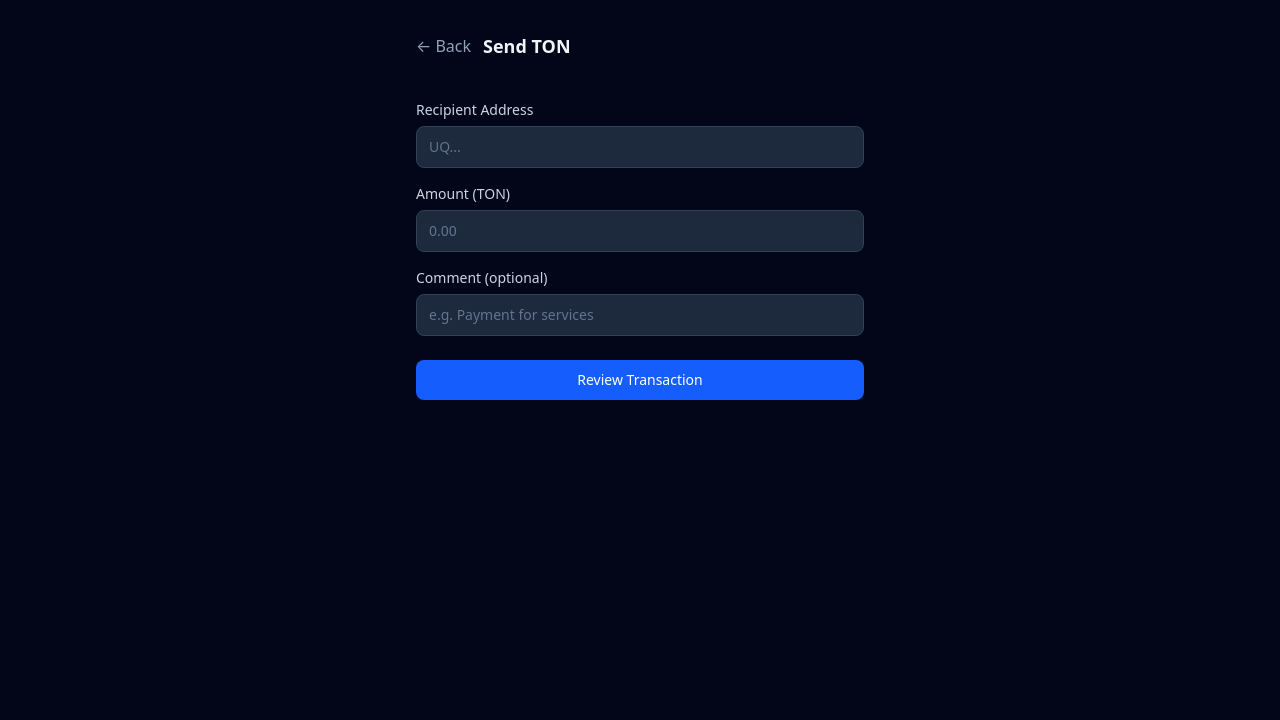
Scenario: SendPage › sends the transaction on confirm and shows the success screen
In the field with placeholder "UQ...": (640, 147) [416, 126, 864, 168], type "UQBvI0aFLnw2QbZgjMPCLRdtRHxhUyinQudg6sdiohIwg5jL"
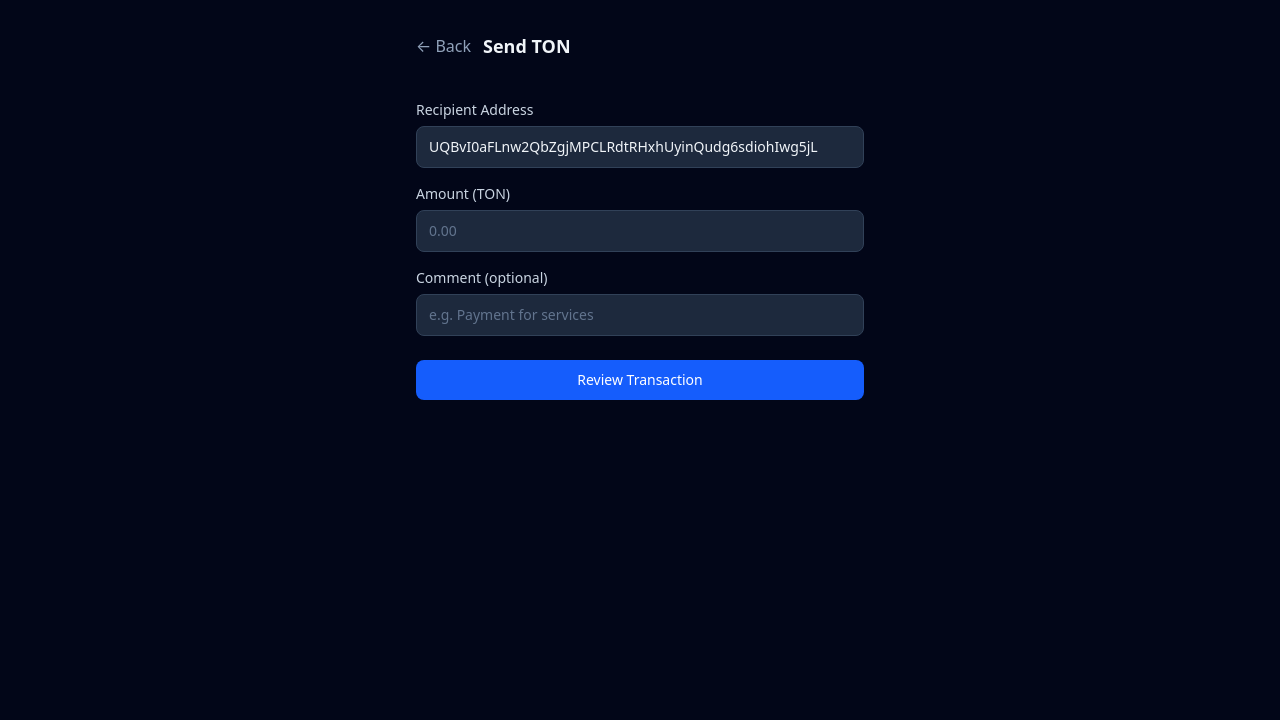
In the number field with placeholder "0.00": (640, 231) [416, 210, 864, 252], type "1"
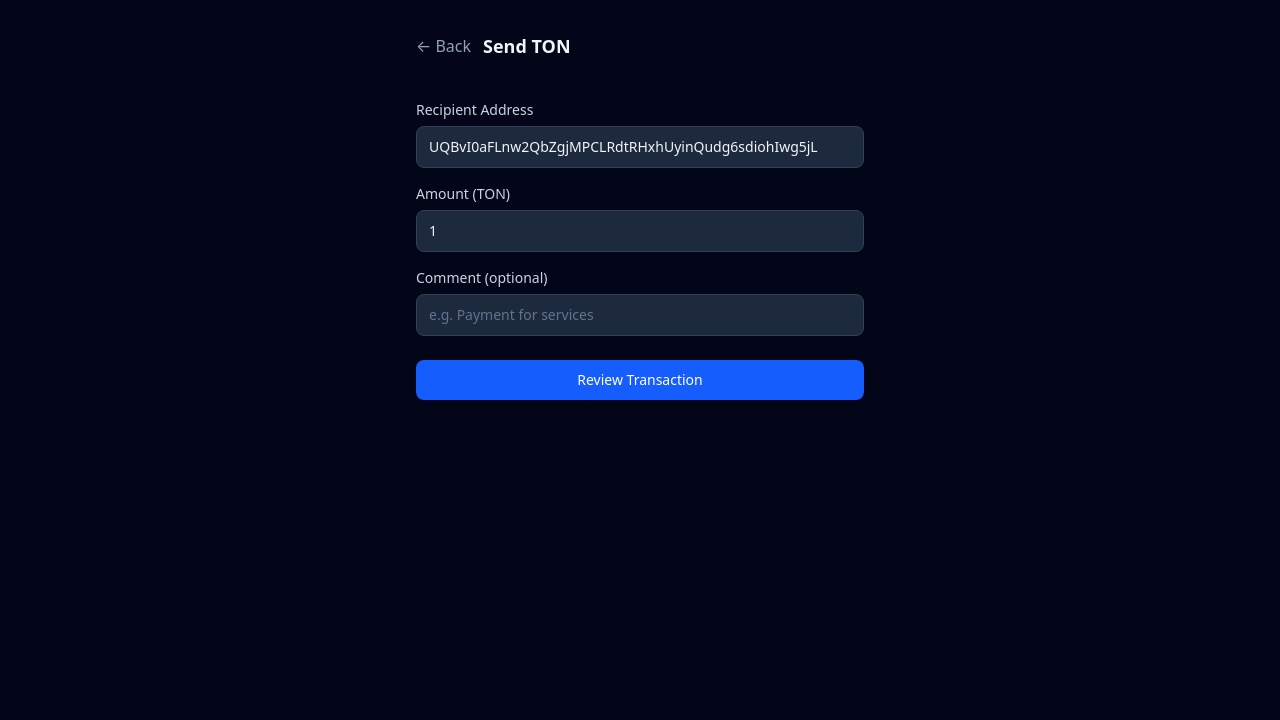
Click the button "Review Transaction": (640, 380) [416, 360, 864, 400]
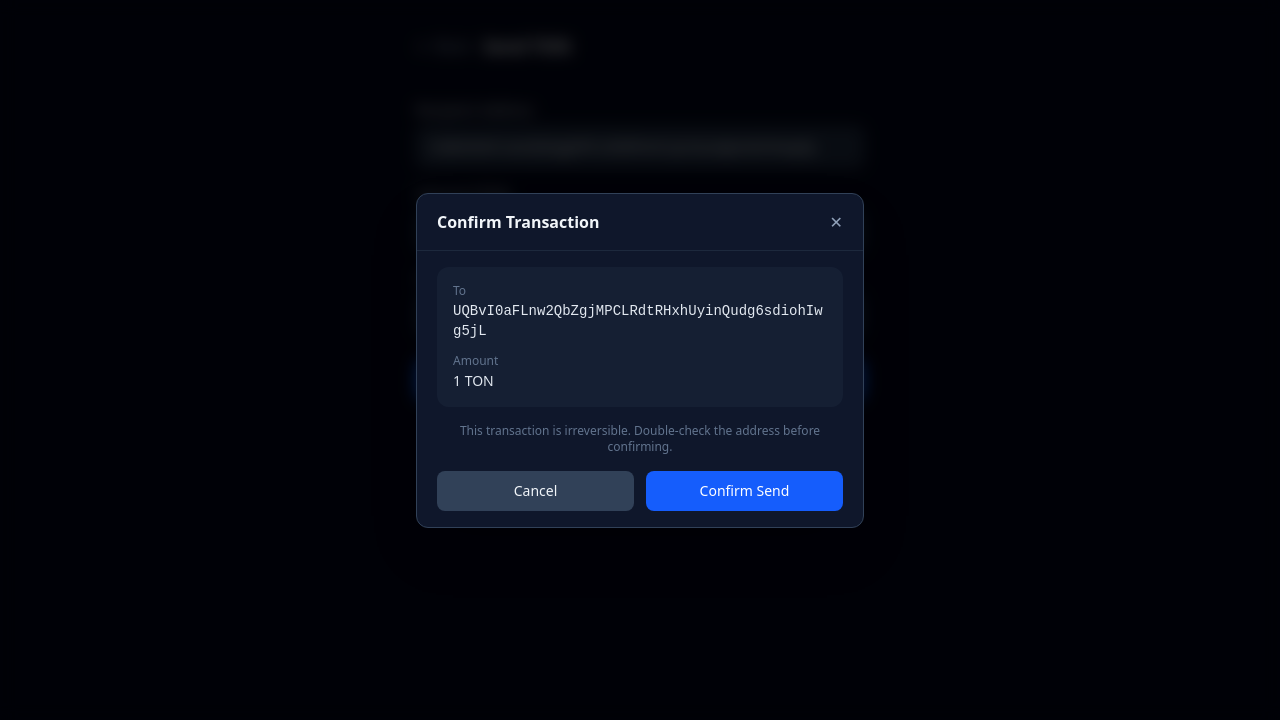
Click the button "Confirm Send": (744, 490) [646, 470, 843, 510]
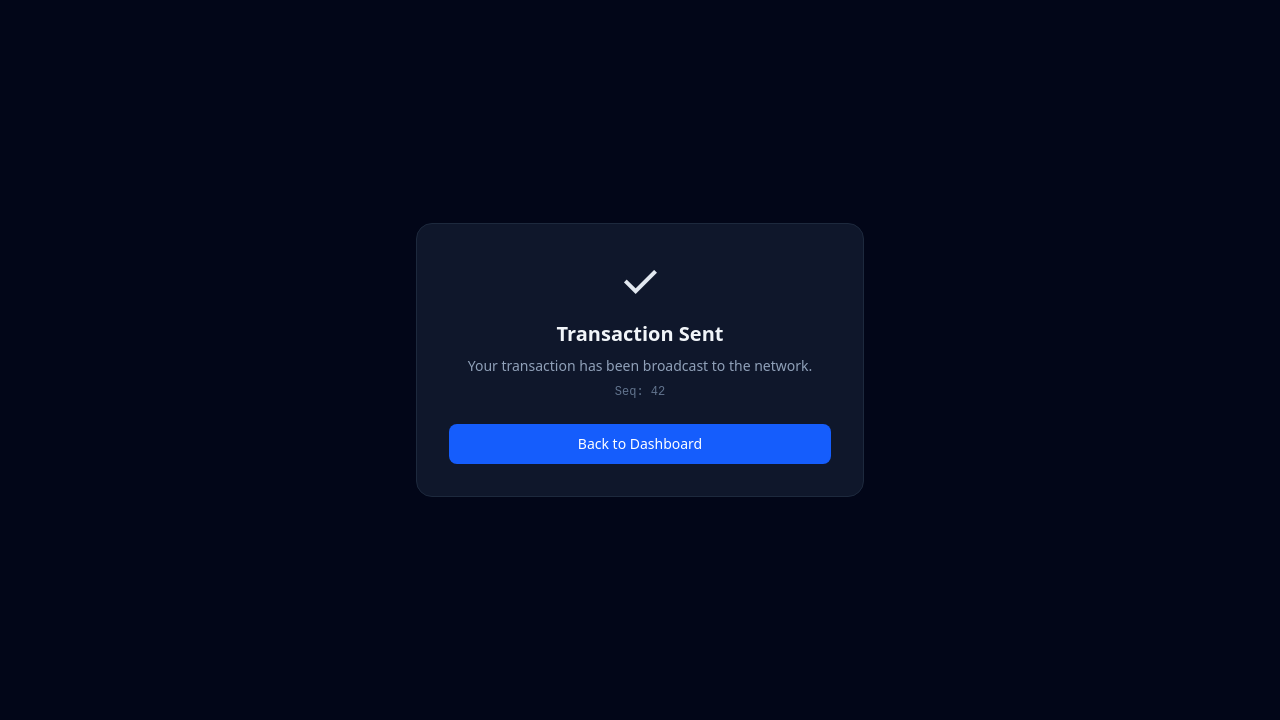
Expected: the heading "Transaction Sent" is shown, [556, 320, 724, 347]
Expected: the text "Seq: 42" is shown, [615, 385, 665, 399]
